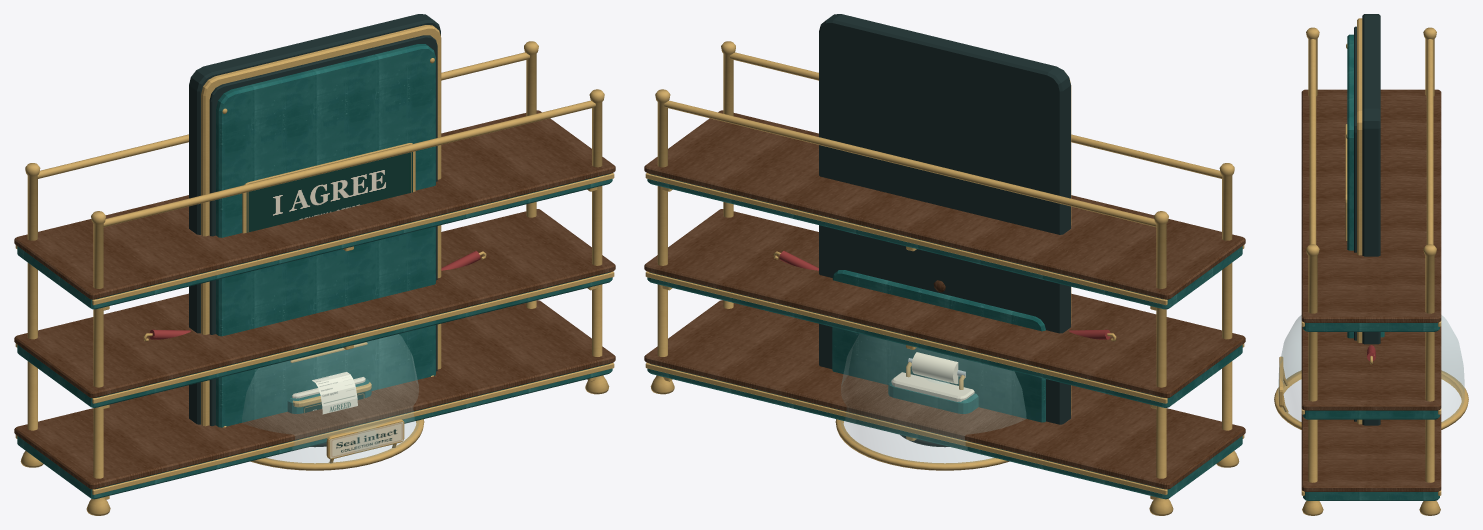
Rendered from renewal-collection.glb.
The picture shows the model from 3 angles, left to right: view 1: azimuth 30°, elevation 25°; view 2: azimuth 150°, elevation 25°; view 3: azimuth 270°, elevation 25°; orthographic projection. The views are drawn at different scales.
Visible parts, largest first — view 1: shop_bay_body, renewal_door_body, sealed_glass_body, receipt_sheet, shop_printer_body, rope_span_body; view 2: shop_bay_body, renewal_door_body, sealed_glass_body, hoof_panel_body, shop_printer_body, rope_span_body; view 3: shop_bay_body, renewal_door_body, sealed_glass_body.
Part boxes in pixels (x1,y1,x2,y2): shop_bay_body: (14,41,615,515); renewal_door_body: (189,14,441,427); sealed_glass_body: (242,334,424,470); receipt_sheet: (312,372,357,414); shop_printer_body: (287,377,371,413); rope_span_body: (143,251,486,341); shop_bay_body: (644,41,1245,515); renewal_door_body: (819,14,1071,424); sealed_glass_body: (835,334,1026,470); hoof_panel_body: (832,270,1045,422); shop_printer_body: (888,352,978,413); rope_span_body: (773,251,1116,341); shop_bay_body: (1301,27,1441,515); renewal_door_body: (1345,14,1380,425); sealed_glass_body: (1274,315,1468,429).
Size of the model in its own units: 3.02 by 2.1 by 1.09.
16 materials, 8 textured.
